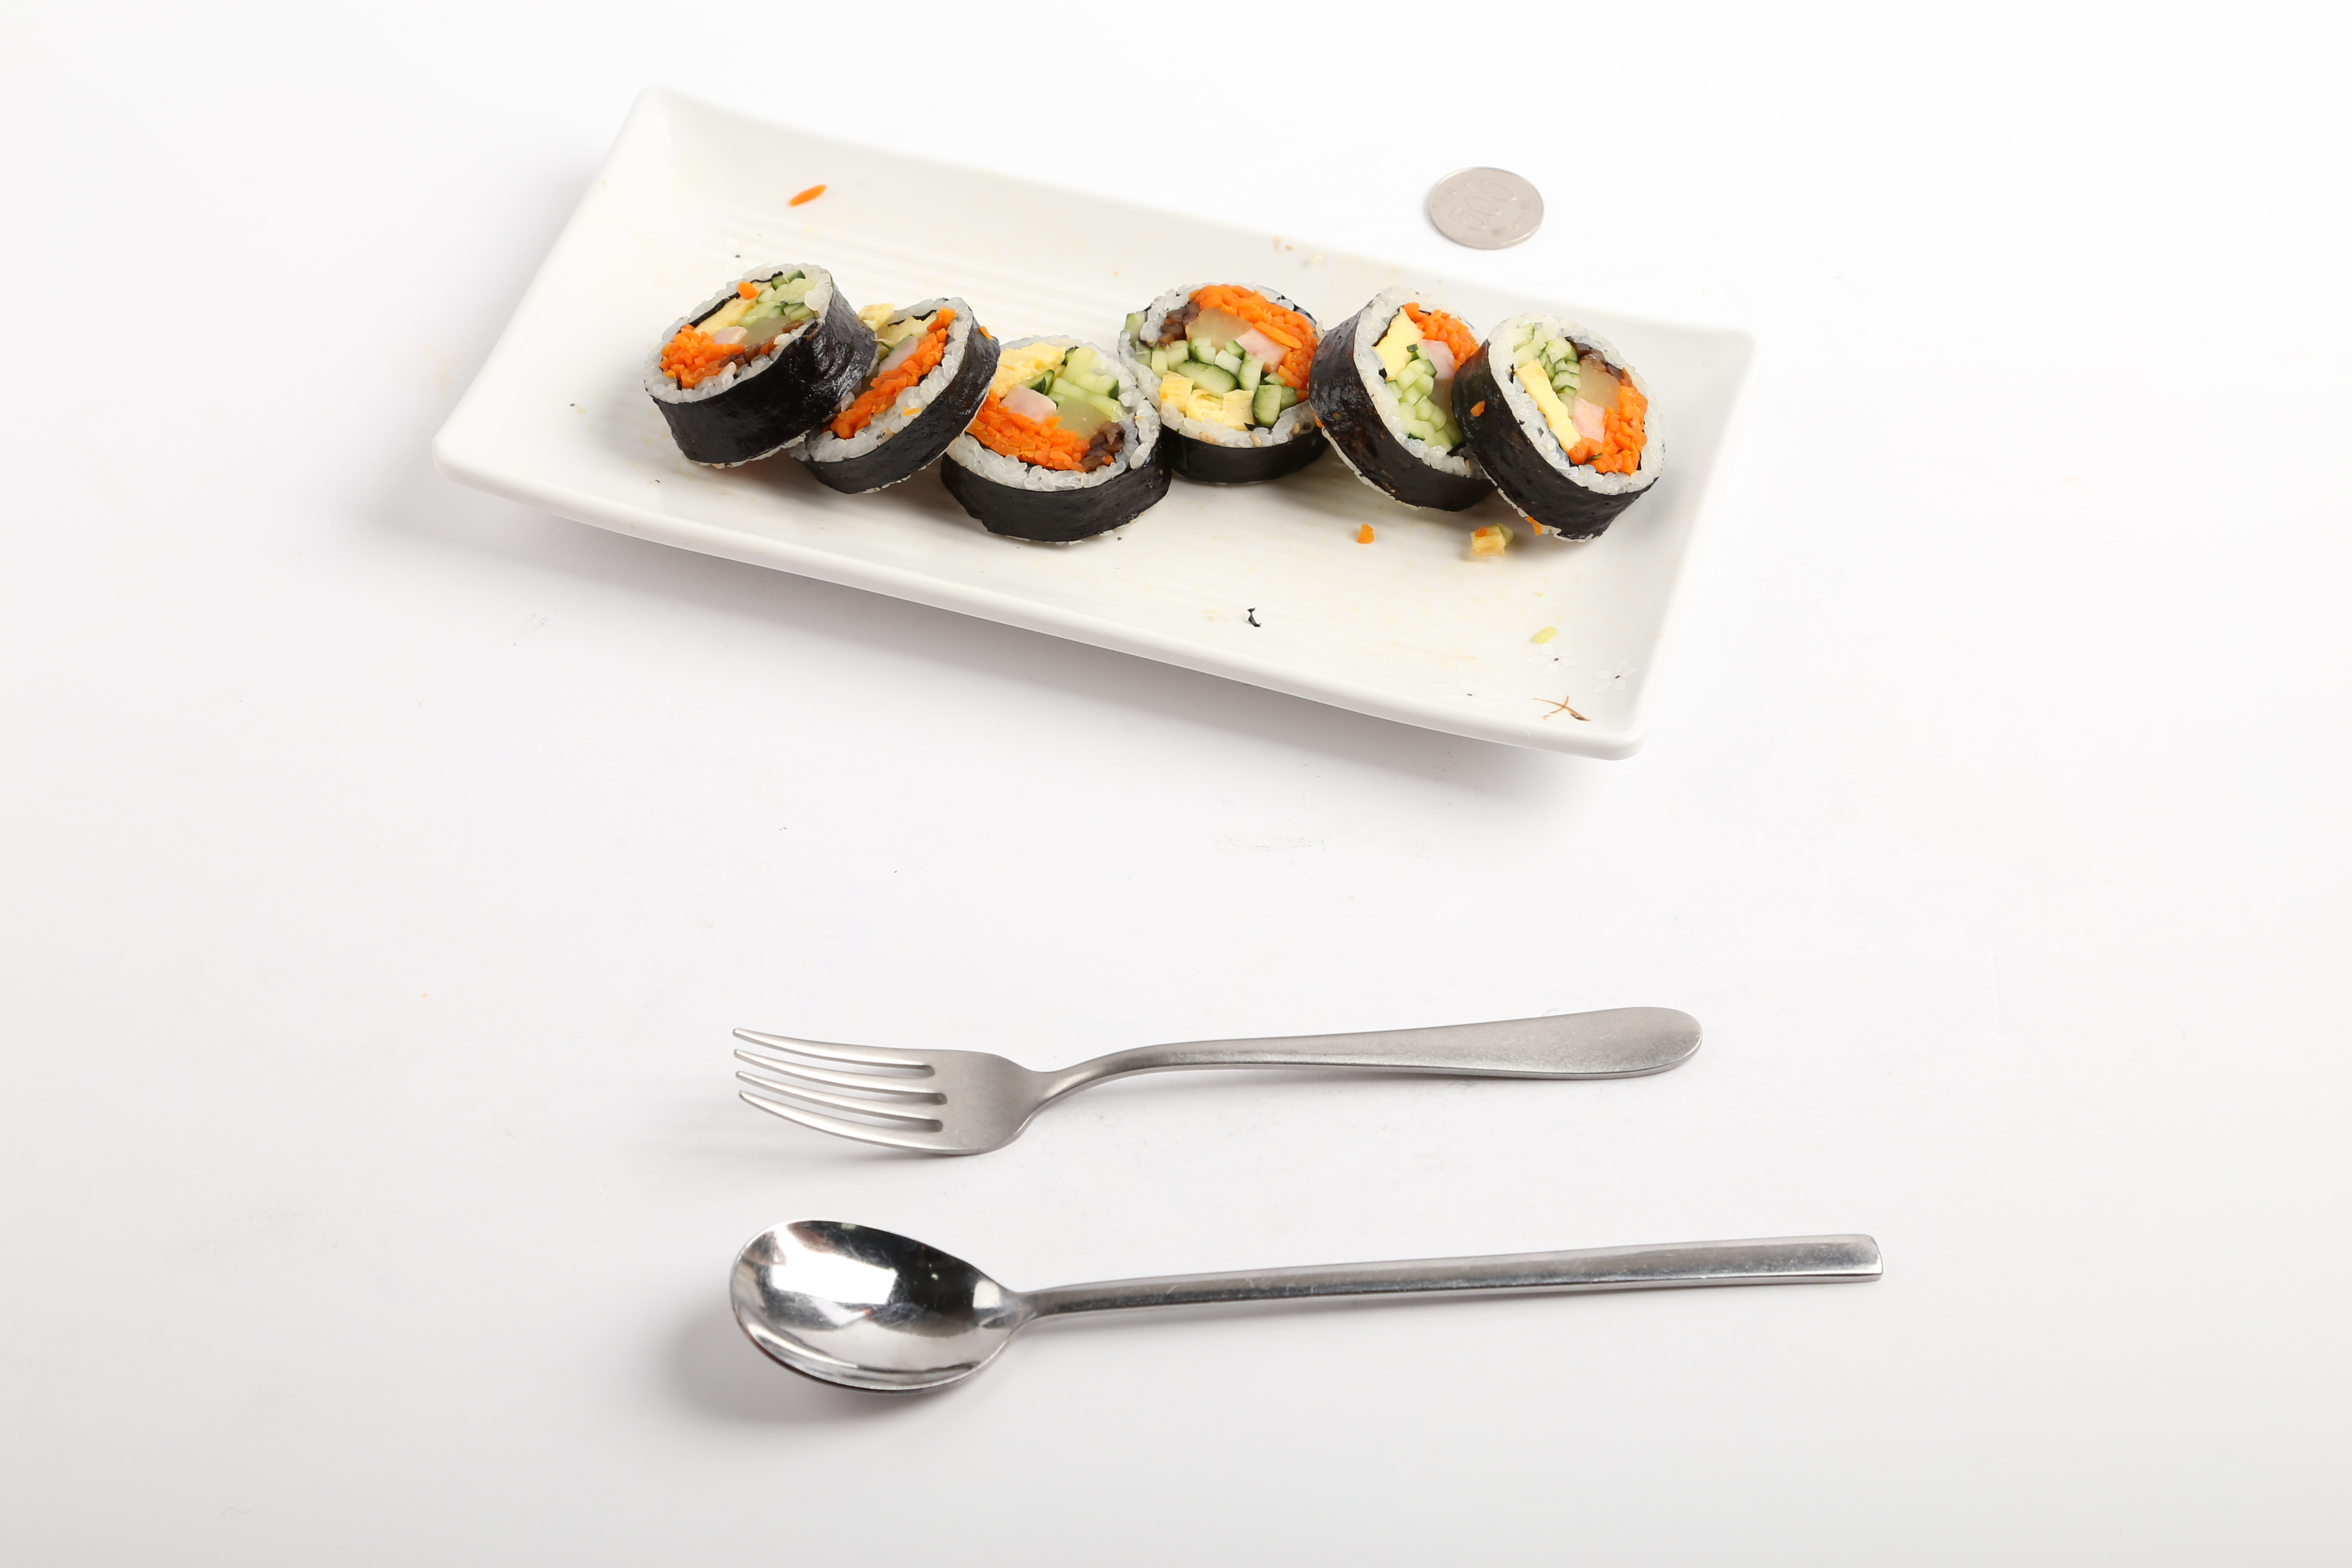dish: (423, 80, 1759, 773)
ref_coin: (1416, 163, 1549, 262)
ref_fork: (723, 1008, 1143, 1157)
ref_spoon: (723, 1207, 1136, 1396)
김밥: (630, 255, 1671, 551)
